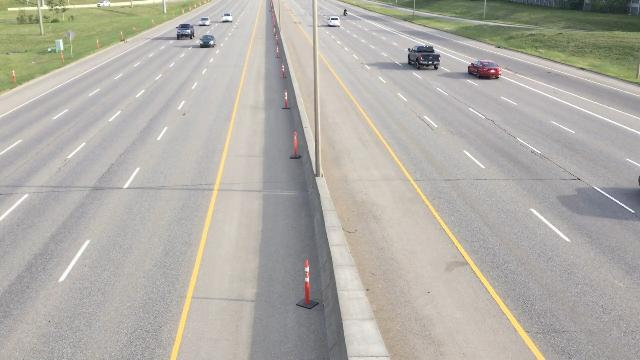car: (408, 43, 442, 73), (468, 56, 502, 81), (176, 23, 197, 41), (199, 33, 217, 50), (327, 16, 342, 27), (199, 16, 211, 26), (221, 13, 233, 22), (97, 0, 111, 7)
motorcycle: (342, 7, 349, 17)
